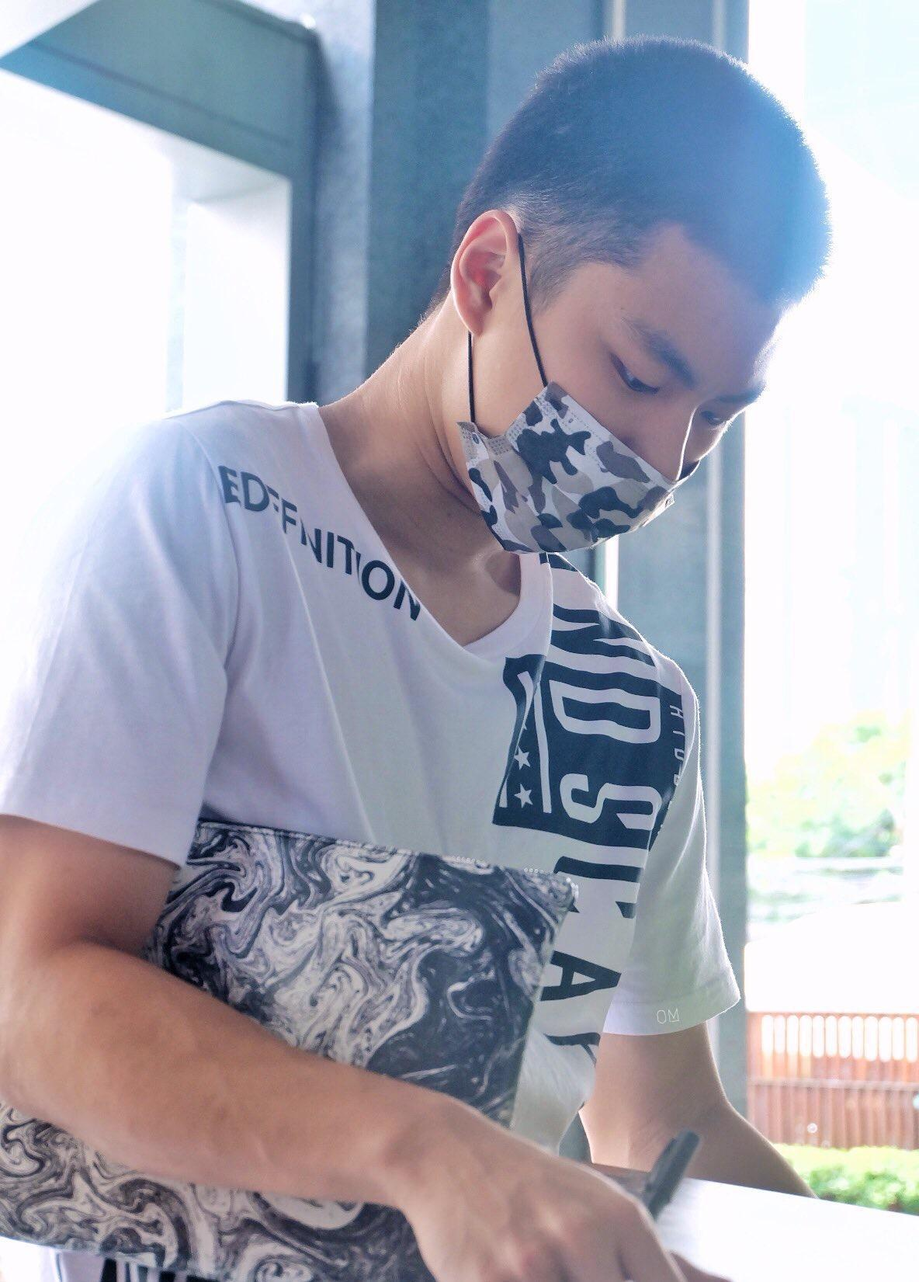WRONG: (463, 280, 768, 563)
